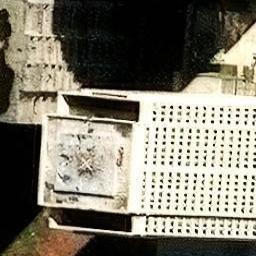heliponto: (56, 131, 115, 196)
